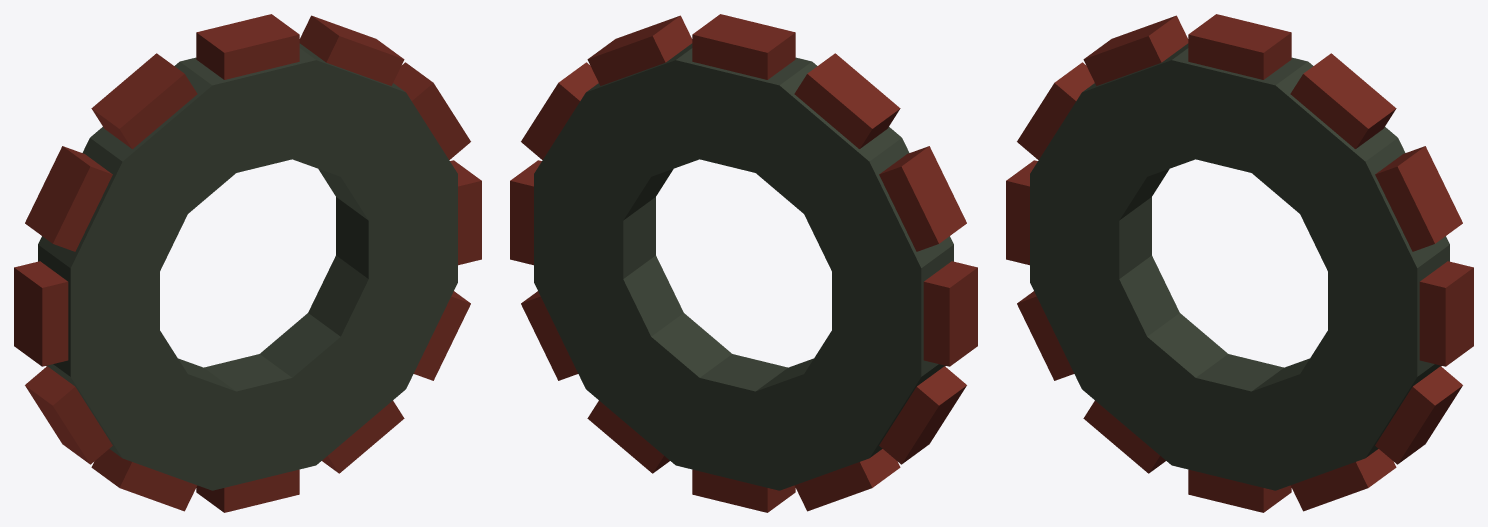
Rendered from tz28v_coil_ring.obj.
The picture shows the model from 3 angles, left to right: view 1: azimuth 30°, elevation 25°; view 2: azimuth 150°, elevation 25°; view 3: azimuth 330°, elevation 25°; orthographic projection.
Visible parts, largest first — view 1: tz28v_coil_ring; view 2: tz28v_coil_ring; view 3: tz28v_coil_ring.
Part boxes in pixels (x1=…): tz28v_coil_ring: x1=14, y1=14, x2=481, y2=512; tz28v_coil_ring: x1=510, y1=14, x2=977, y2=512; tz28v_coil_ring: x1=1006, y1=14, x2=1473, y2=512.
Size of the model in its own units: 6.6 by 6.6 by 0.85.
